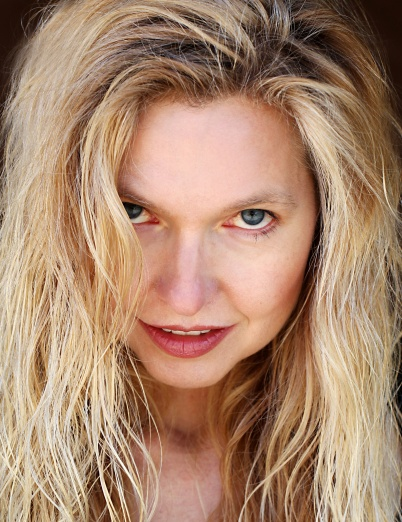Forehead: (85, 81, 325, 205)
